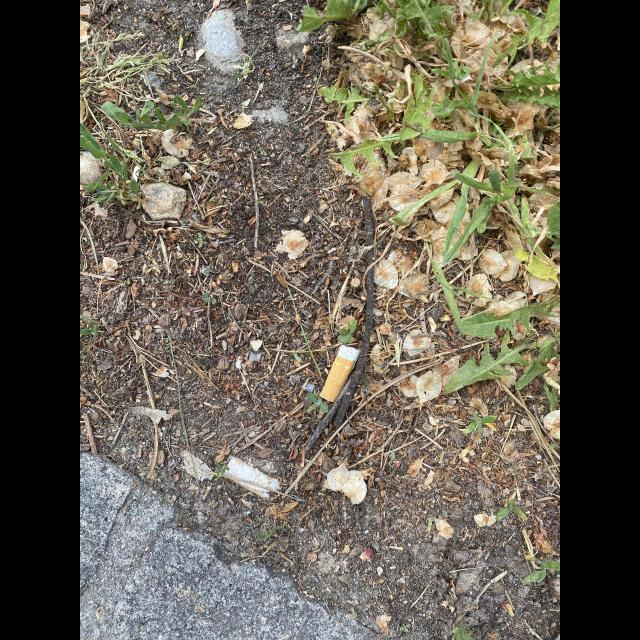cigarette: (320, 343, 362, 403), (223, 456, 280, 499)
